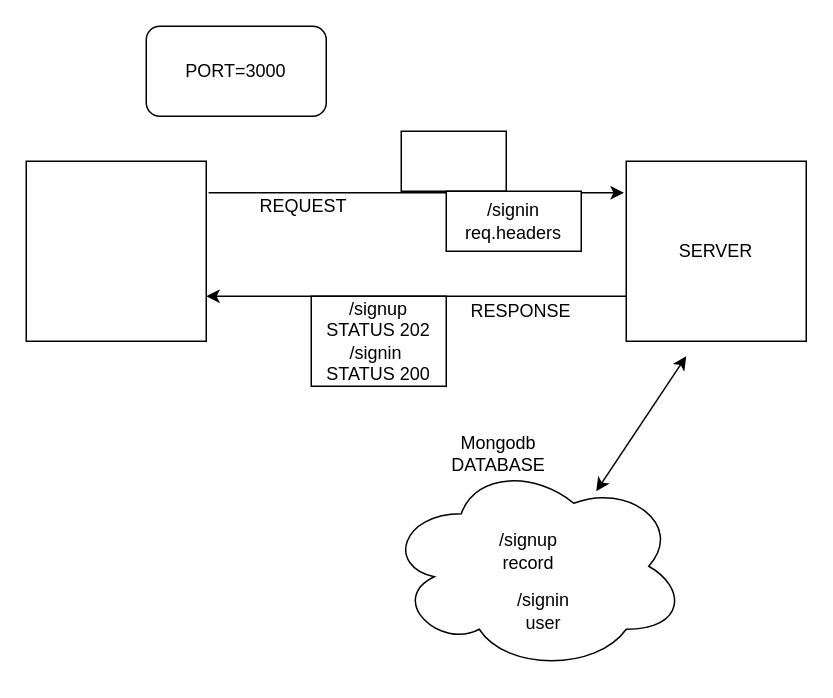
Some shapes in this 833 by 698 pixel diagram are drawn without their labels. Here are the shapes that lost their labels. From the top down, the centre of each, then its label:
At point 453,160: "/signup req.body".
At point 115,250: "CLIENT".
